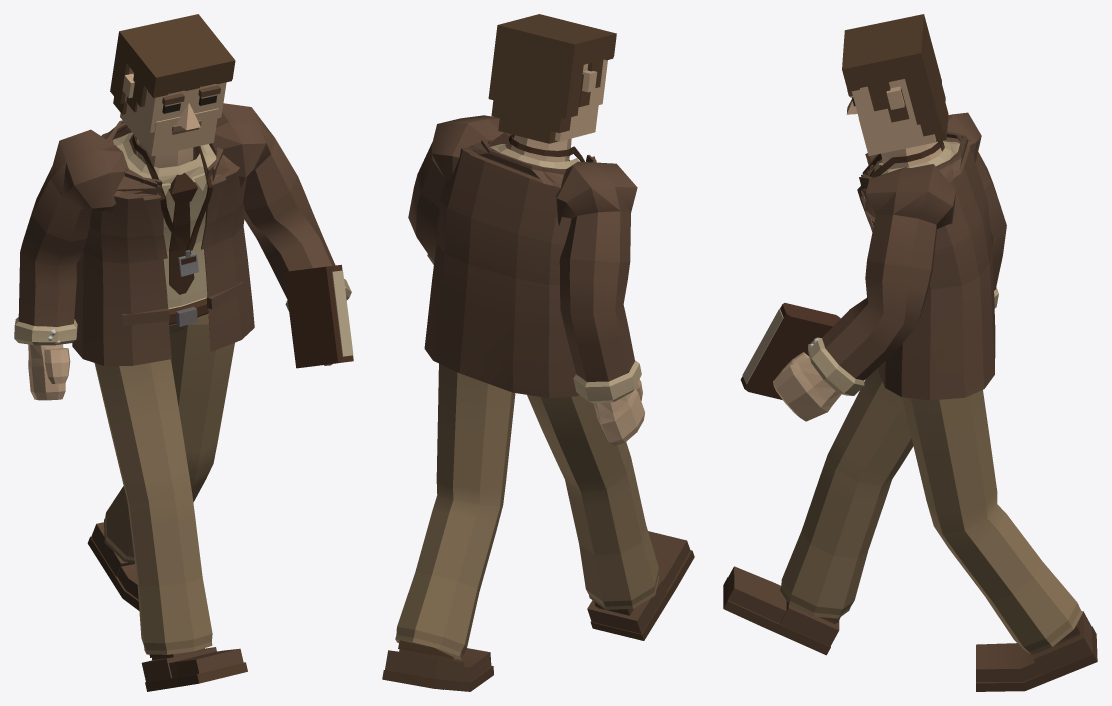
File: school-teacher-8b8bfc__walk4.glb
3 renders of one model, left to right at view 1: azimuth 30°, elevation 25°; view 2: azimuth 150°, elevation 25°; view 3: azimuth 270°, elevation 25°, orthographic.
Parts seen in each view (by area): view 1: school-teacher-8b8bfc__walk4; view 2: school-teacher-8b8bfc__walk4; view 3: school-teacher-8b8bfc__walk4.
Part boxes in pixels (x1,y1,x2,y2): school-teacher-8b8bfc__walk4: [14, 14, 353, 691]; school-teacher-8b8bfc__walk4: [382, 14, 694, 691]; school-teacher-8b8bfc__walk4: [723, 14, 1097, 691].
Bounding box in the file's own units: 0.7585 × 1.69 × 0.9128.
